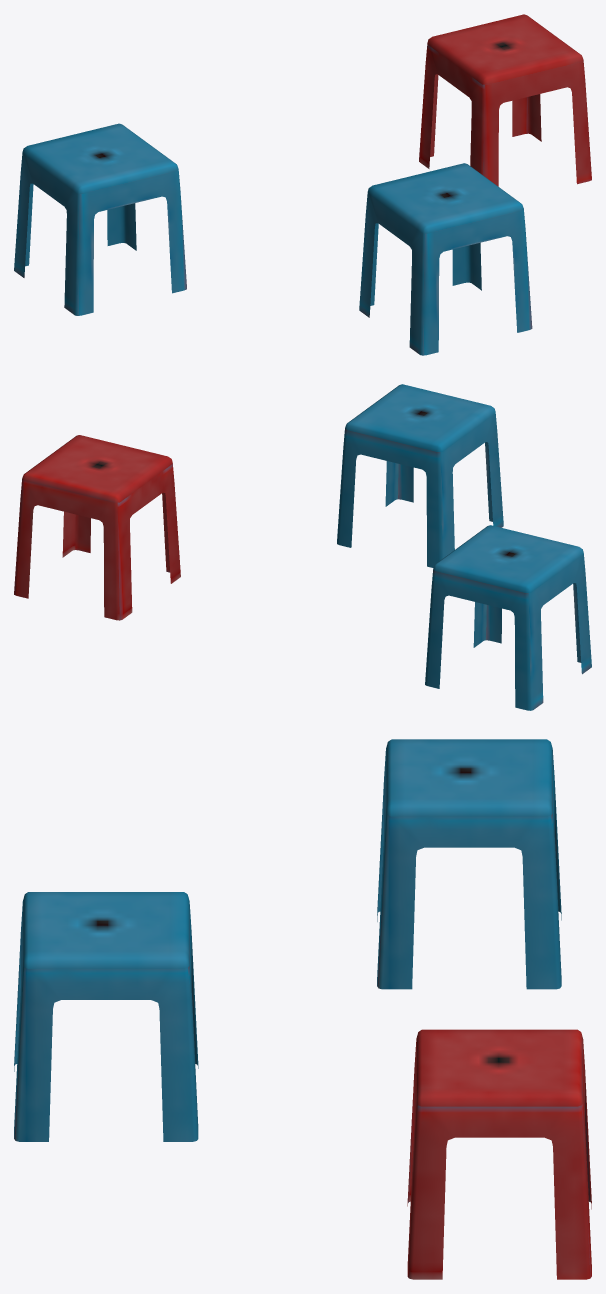
File: GheNgoi.fbx
3 views of the same model, one above another, from view 1: azimuth 30°, elevation 25°; view 2: azimuth 150°, elevation 25°; view 3: azimuth 270°, elevation 25° (orthographic). The views are drawn at different scales.
Parts seen in each view (by area): view 1: Ghe; view 2: Ghe; view 3: Ghe.
Boxes of the visible parts, box(x1,y1,x2,y2) form: Ghe: box(14, 14, 591, 355); Ghe: box(14, 384, 591, 710); Ghe: box(14, 739, 591, 1279).
Size of the model in its own units: 221 by 50.03 by 147.
